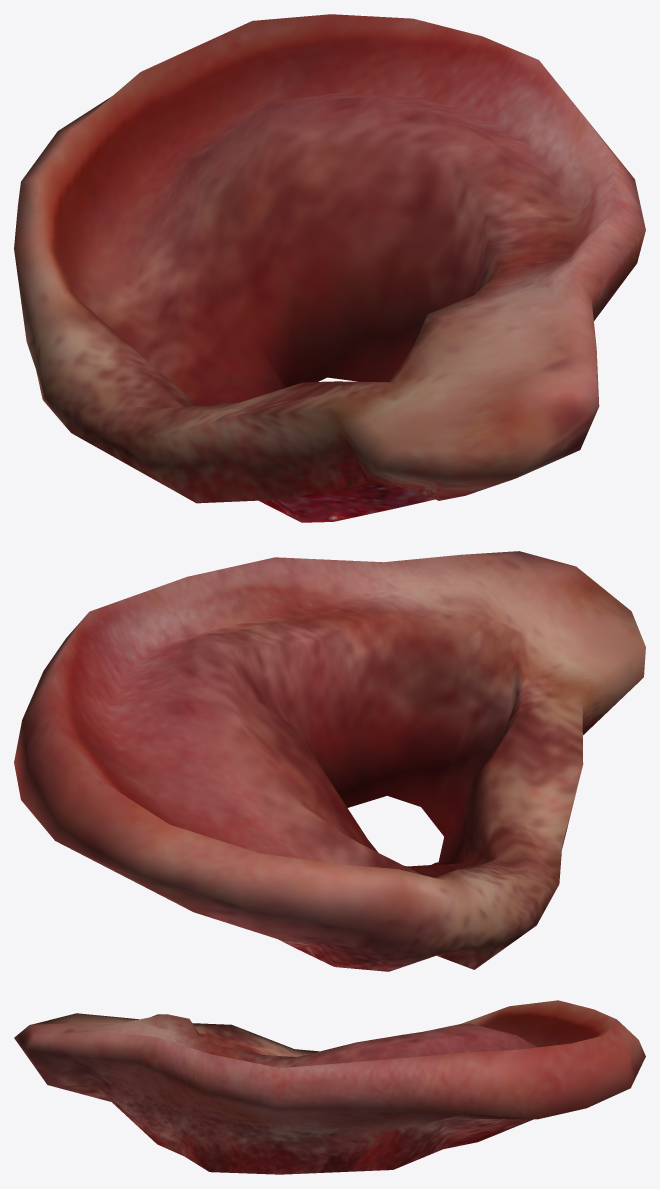
File: Ear_2.fbx
The picture shows the model from 3 angles, top to bottom: view 1: azimuth 30°, elevation 25°; view 2: azimuth 150°, elevation 25°; view 3: azimuth 270°, elevation 25°; orthographic projection. The views are drawn at different scales.
Visible parts, largest first — view 1: Ear_2; view 2: Ear_2; view 3: Ear_2.
Boxes of the visible parts, x1,y1,x2,y2 form: Ear_2: [14, 14, 645, 522]; Ear_2: [14, 551, 645, 971]; Ear_2: [14, 1000, 645, 1174].
Bounding box in the file's own units: 0.0321 × 0.0179 × 0.0503.
